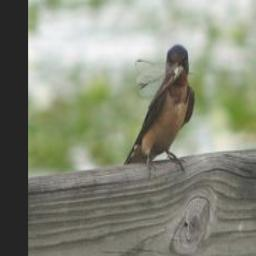Swallow: (123, 43, 194, 182)
